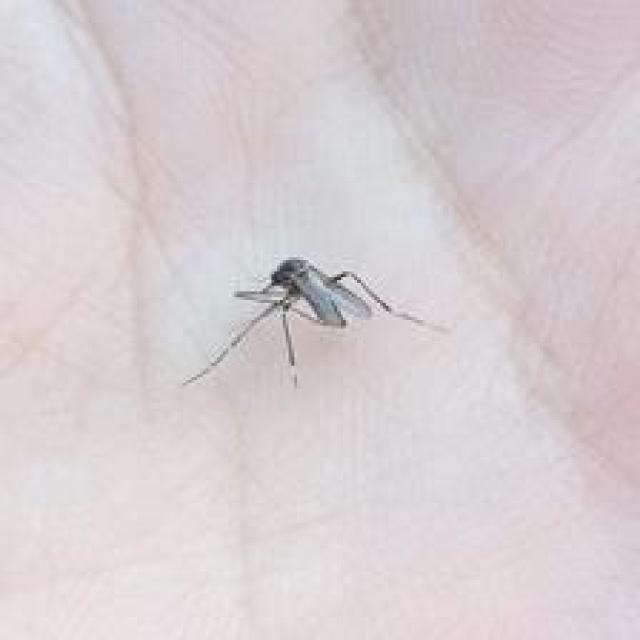Aedes albopictus: (180, 256, 451, 390)
